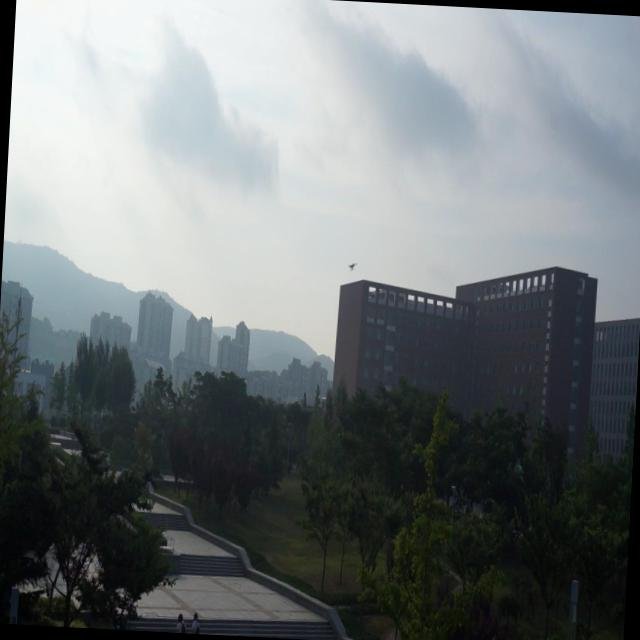drone: (348, 260, 358, 270)
